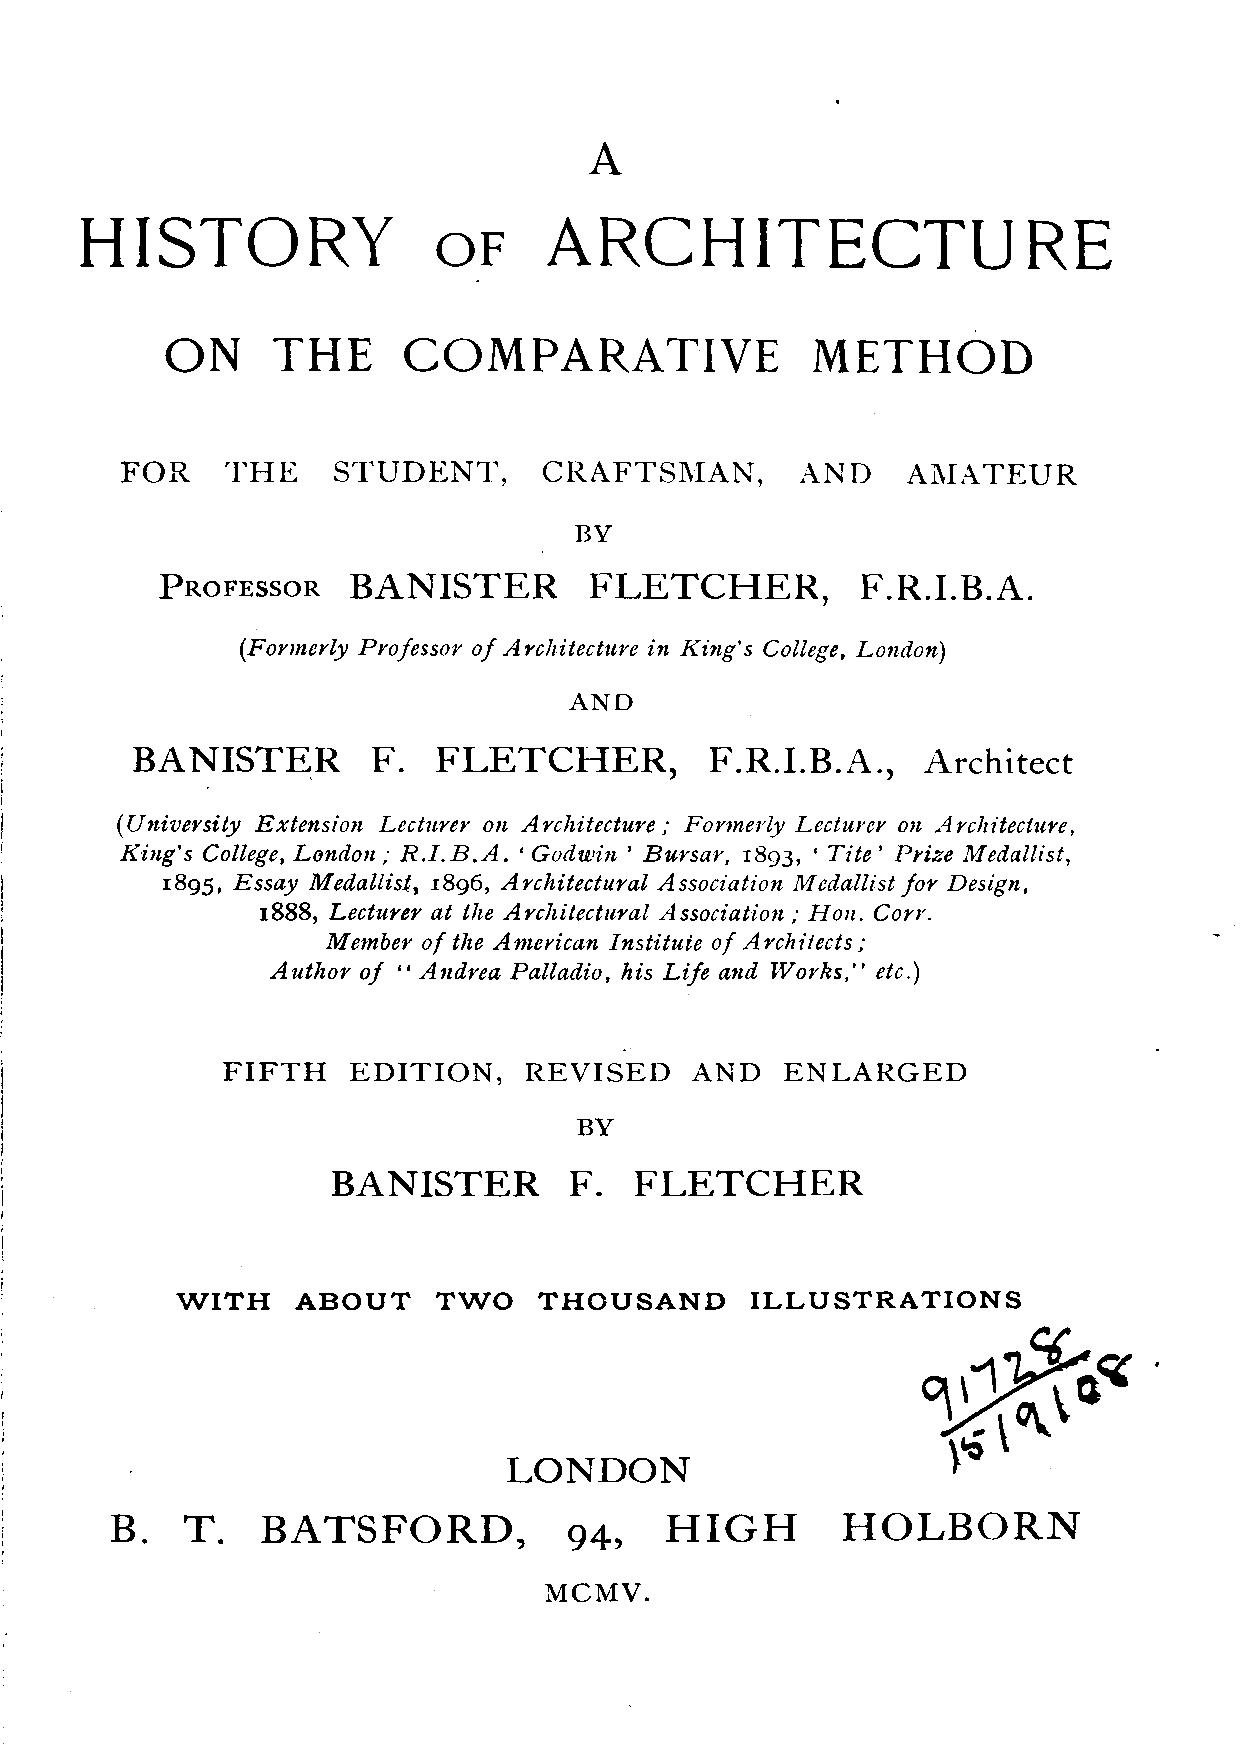author: (154, 522, 1037, 604)
title: (78, 140, 1113, 376)
